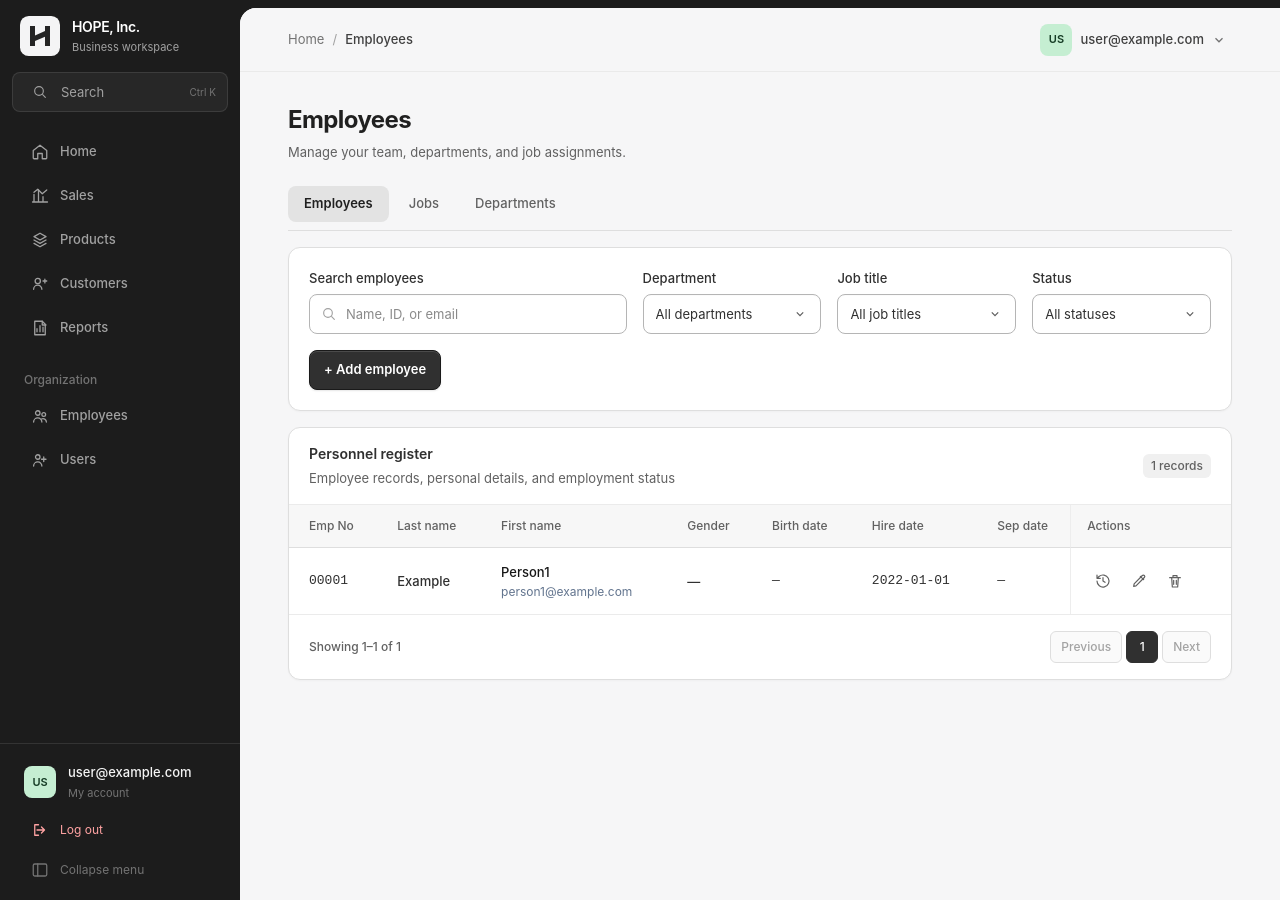
saves employee edits through the API and refreshes the directory
The image size is (1280, 900).
Click the button named "Edit Person1 Example" at (1139, 581), box [1123,565,1155,597]
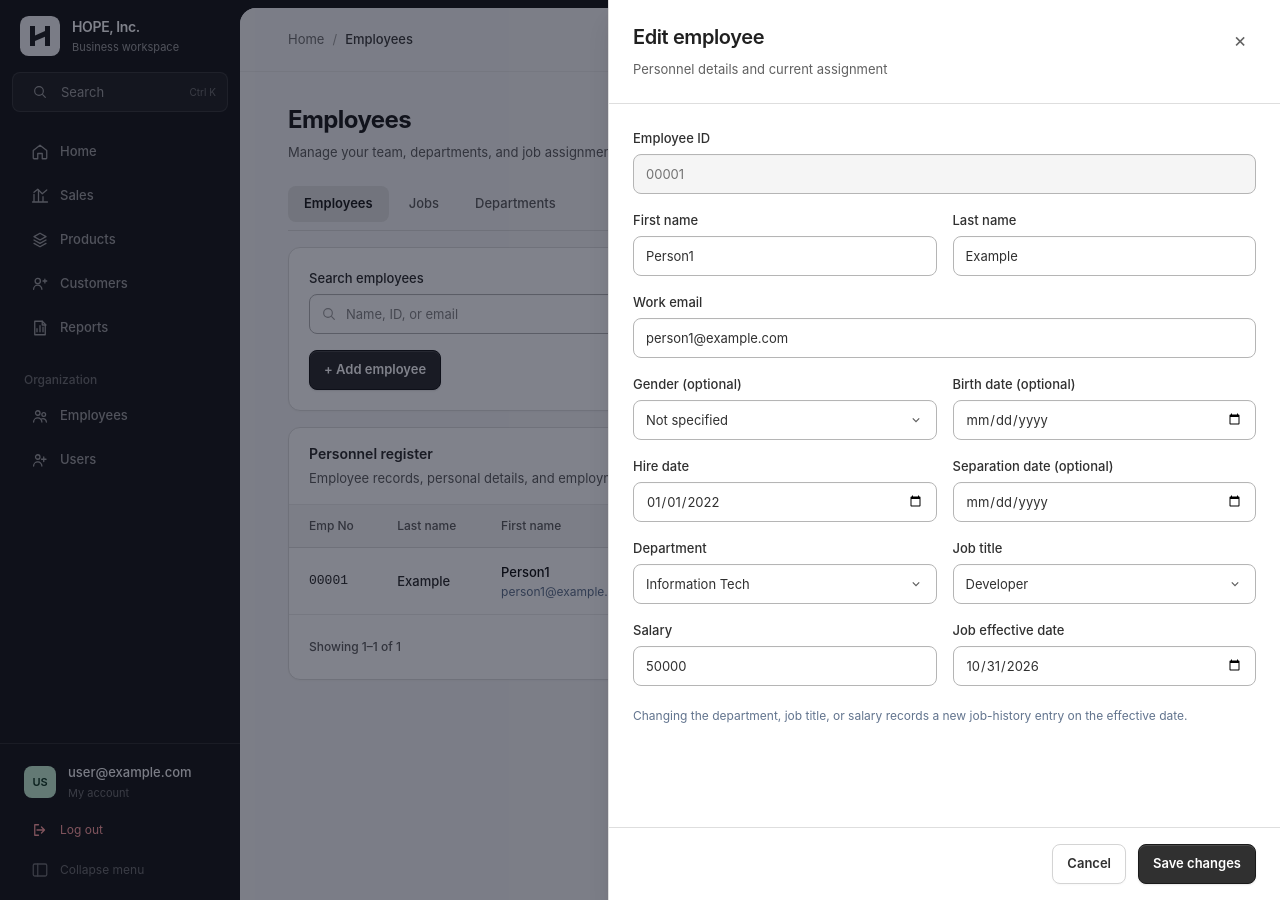
Replace the text in the field labelled "First name" with "Updated" at (785, 256), box [633,236,936,276]
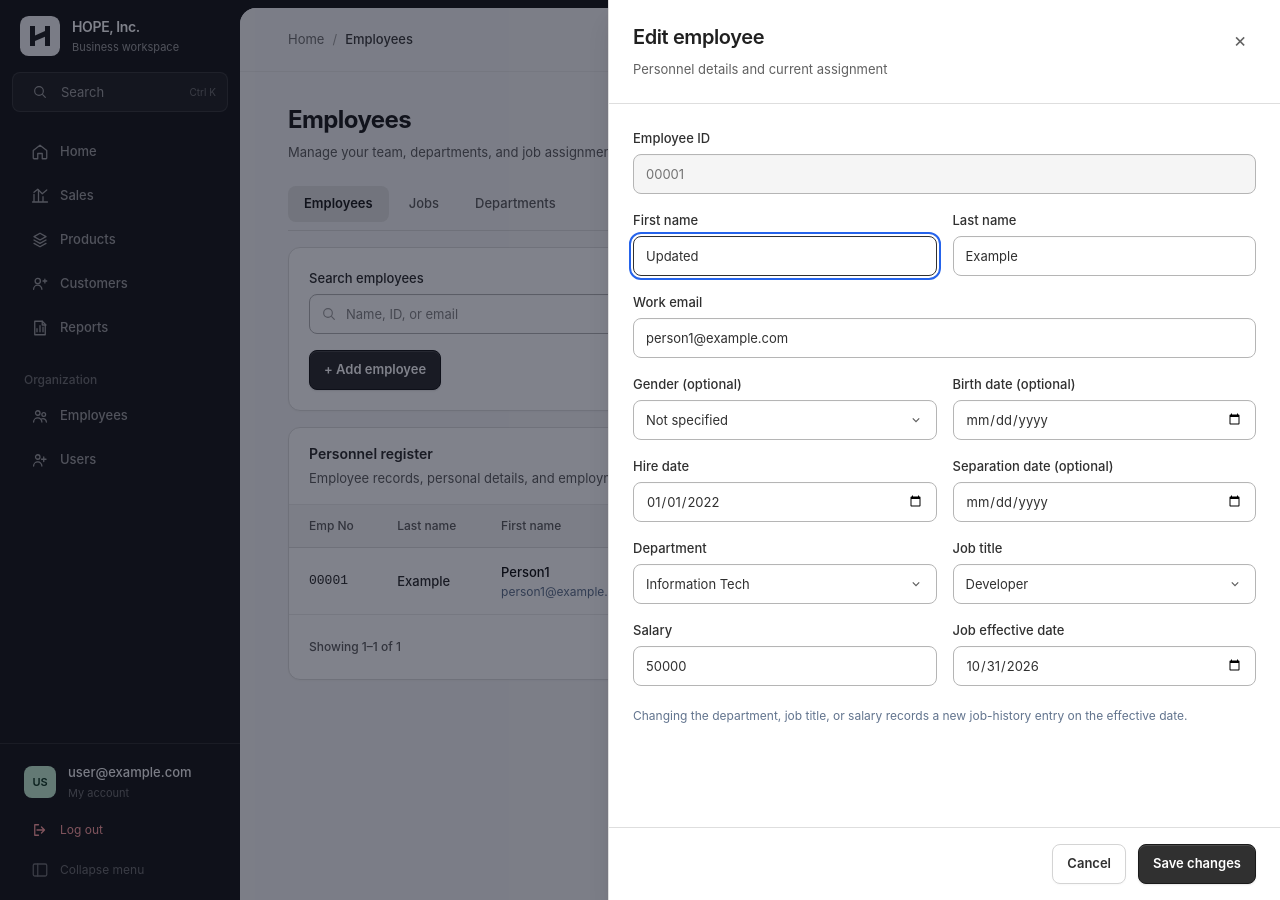
Click the button "Save changes" at (1197, 864), box [1138,844,1256,884]
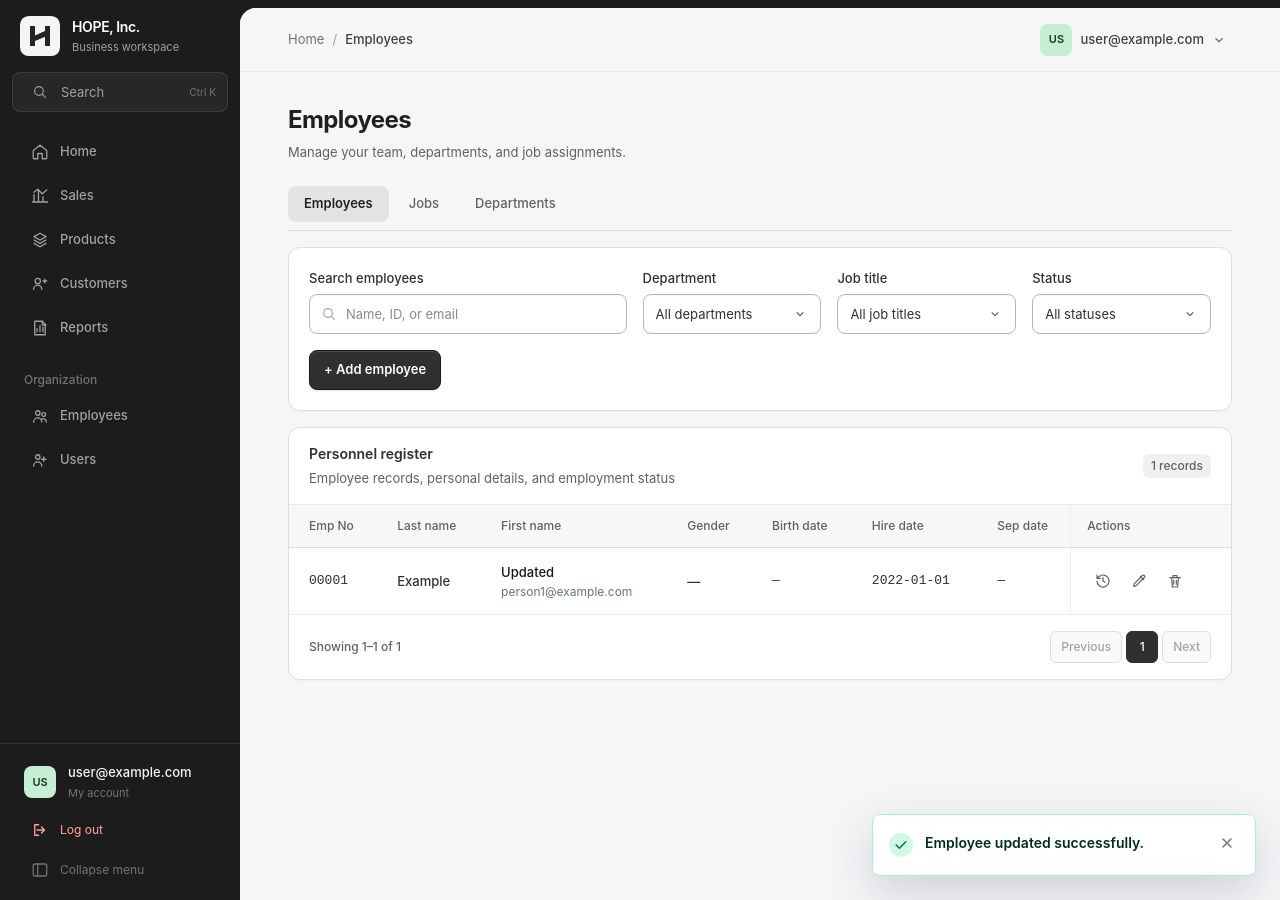
Result: the message shows "Employee updated successfully" at [925,834,1144,851]
